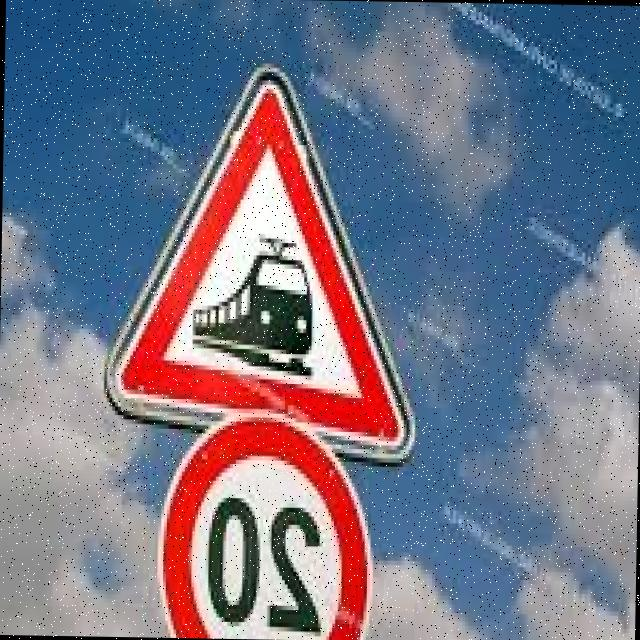speed_limit_20: (147, 411, 380, 640)
